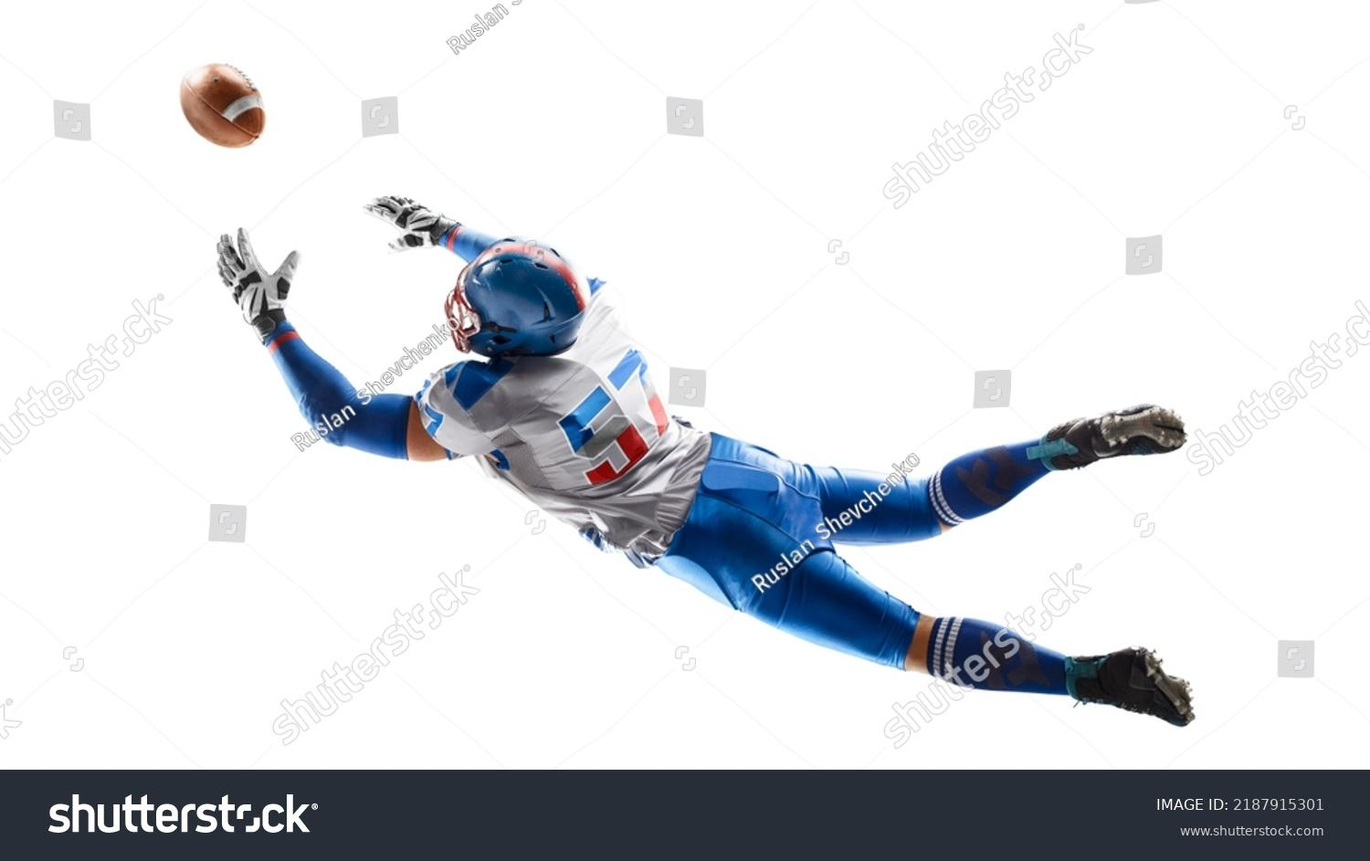ballon_rugby: (176, 57, 266, 150)
